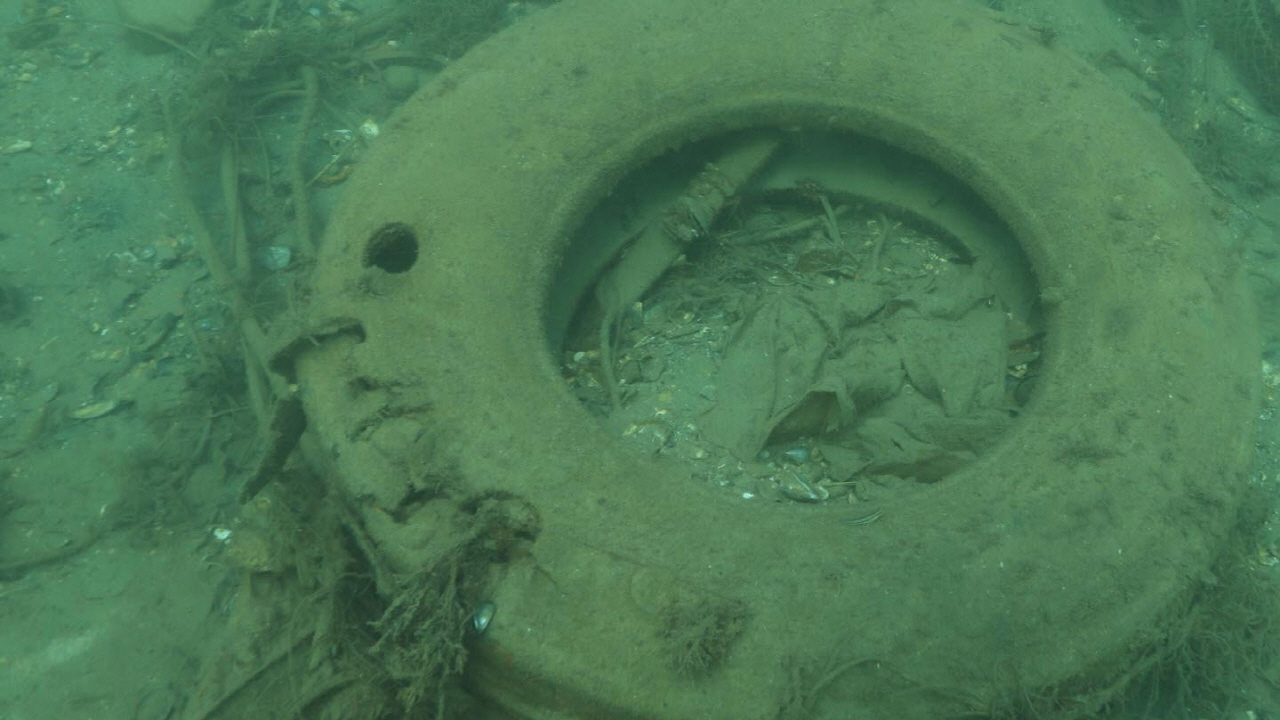tire: (297, 0, 1270, 720)
